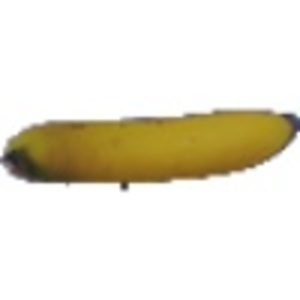banana: (3, 104, 297, 182)
